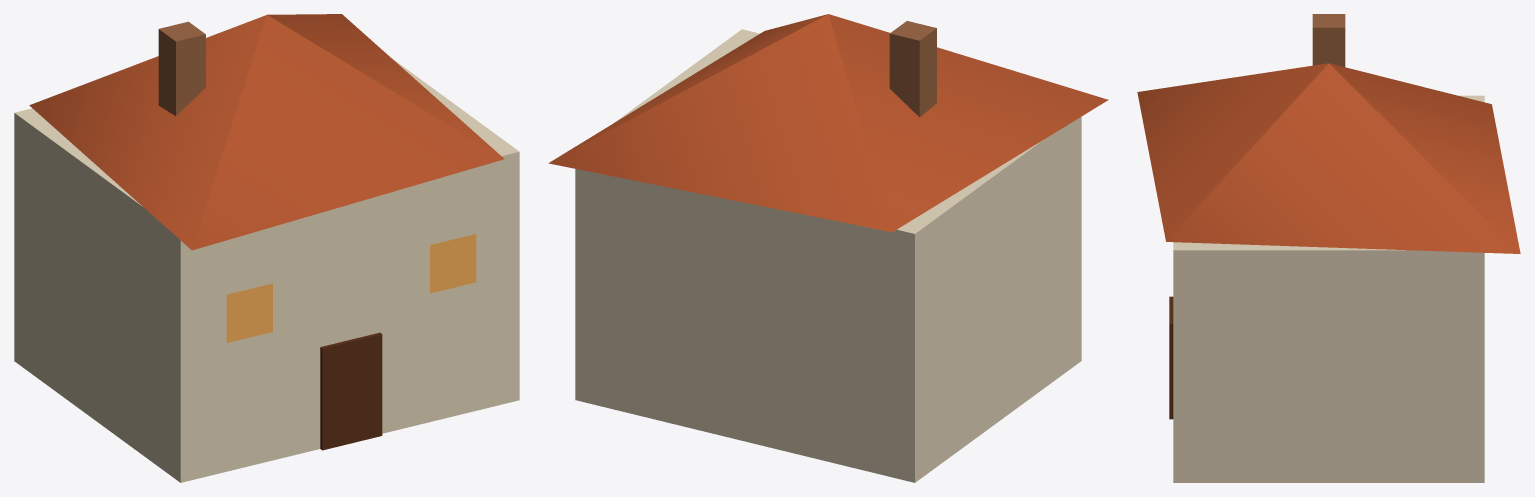
File: casa.glb
The picture shows the model from 3 angles, left to right: view 1: azimuth 30°, elevation 25°; view 2: azimuth 150°, elevation 25°; view 3: azimuth 270°, elevation 25°; orthographic projection. The views are drawn at different scales.
Parts seen in each view (by area): view 1: casa; view 2: casa; view 3: casa.
Part boxes in pixels (x1,y1,x2,y2): casa: [14, 14, 519, 482]; casa: [548, 14, 1108, 482]; casa: [1137, 14, 1520, 482].
Size of the model in its own units: 4.62 by 4.6 by 4.62.
Materials: 1 (1 with a texture image).
